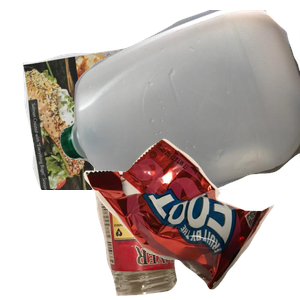glass: (91, 142, 260, 300)
paper: (20, 34, 221, 214)
plastic: (60, 10, 300, 190)
trash: (81, 136, 300, 300)
